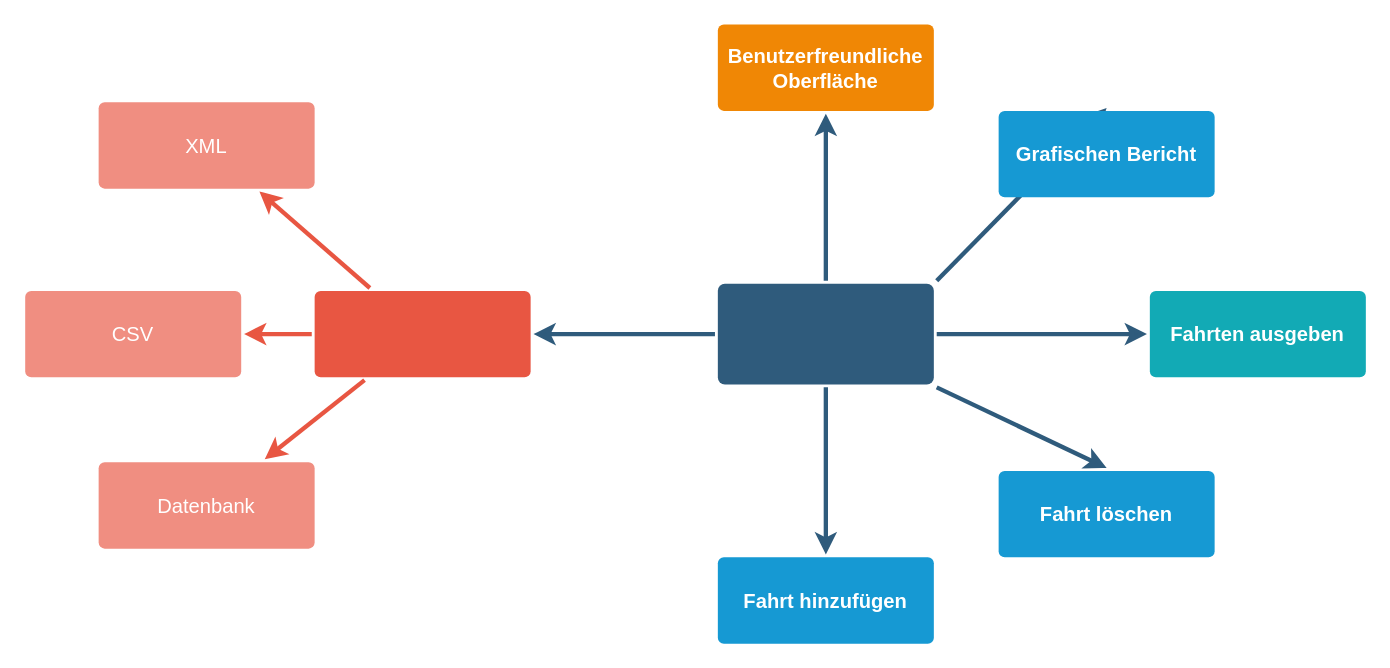
Image size: 1390x668. Some labels were removed from this diagram. The shapes that lost their labels are listed below. From the top down, each one's centre as x and y in pixels, then its label:
the point at 422,333: Repository
the point at 825,333: Fahrtenbuch
